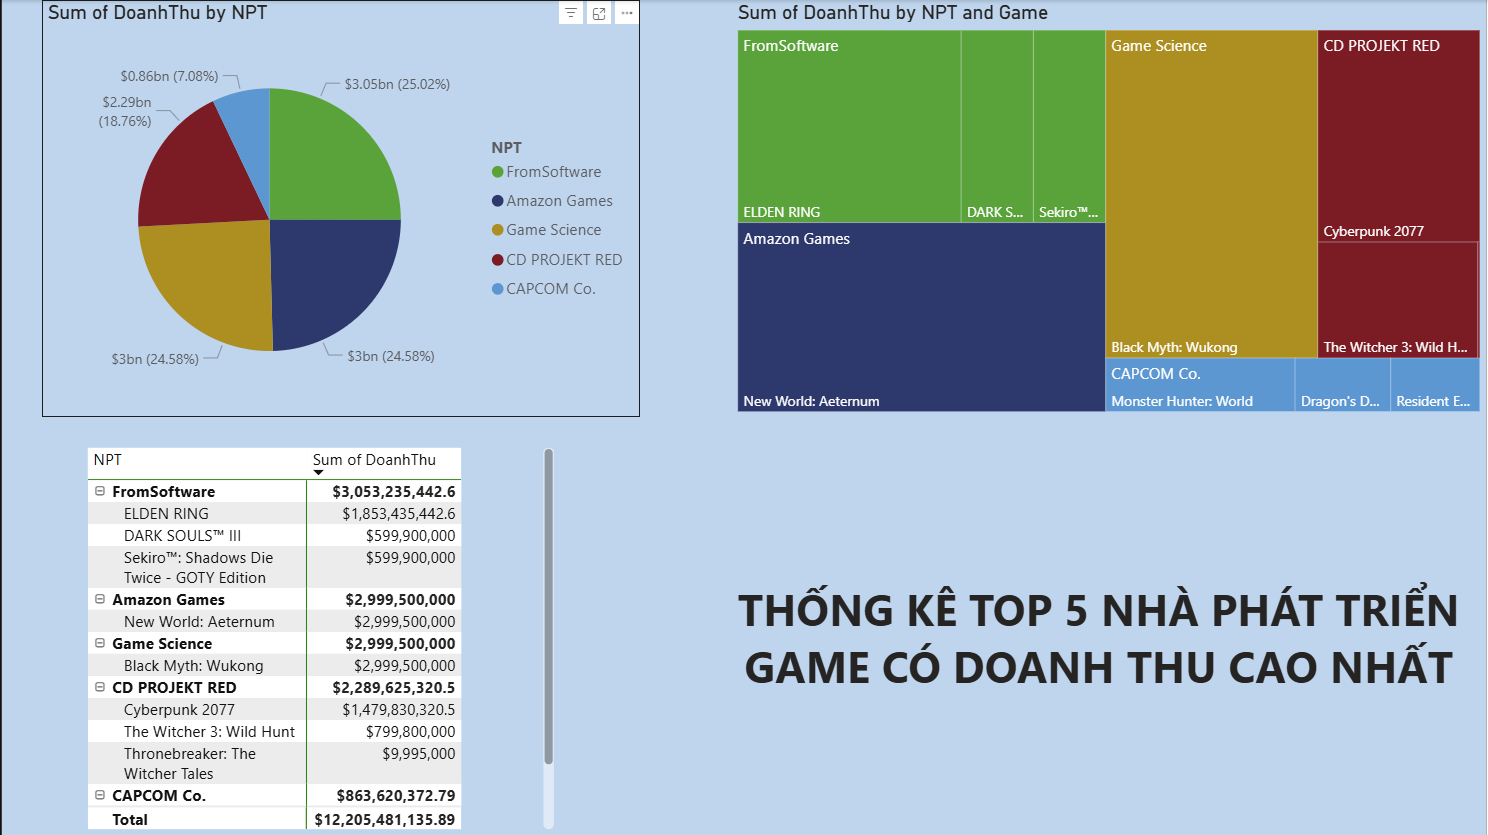

The page's visual inventory and layout, read from the dashboard file:
{"tool":"powerbi","page":{"name":"Page 1","canvas":[1280,720],"ordinal":0},"visuals":[{"type":"pivotTable","fields":{"Rows":["Query3.NPT","Query3.Game"],"Values":["Sum(Query3.DoanhThu)"]},"box":[69.1,380.9,411.8,339.1],"z":0},{"type":"pieChart","fields":{"Category":["Query3.NPT"],"Y":["Sum(Query3.DoanhThu)"]},"box":[34.5,0,515.5,360],"z":1000},{"type":"treemap","fields":{"Group":["Query3.NPT"],"Values":["Sum(Query3.DoanhThu)"],"Details":["Query3.Game"]},"box":[630,0,650,360],"z":2000},{"type":"textbox","box":[612.7,495.5,667.3,162.7],"z":3001}]}

Visuals, with their boxes in screenshot pixels (x1, y1, x2, y2), scaled from the page's 1280x720 canvas onto the 1488x835 screenshot:
pivotTable - Query3.NPT x Query3.Game: 80,442,559,834
pieChart - Query3.NPT x Sum(Query3.DoanhThu): 40,0,639,418
treemap - Query3.NPT x Sum(Query3.DoanhThu): 732,0,1487,418
textbox: 712,575,1487,763
